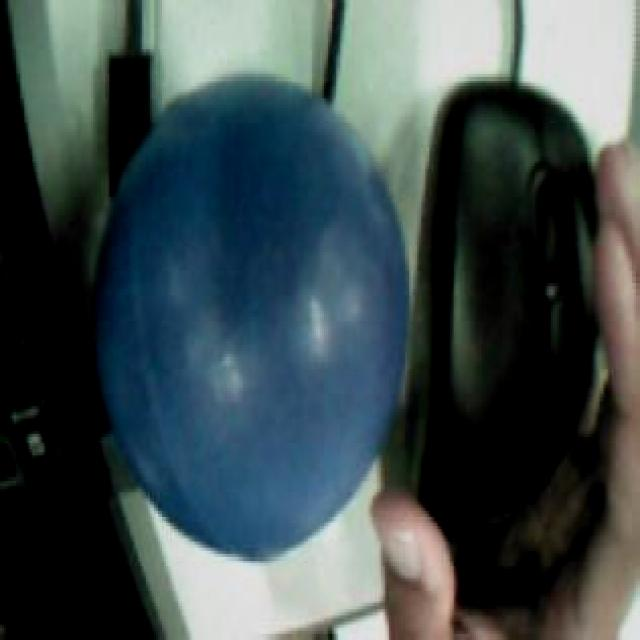BallPurple: (90, 70, 406, 558)
